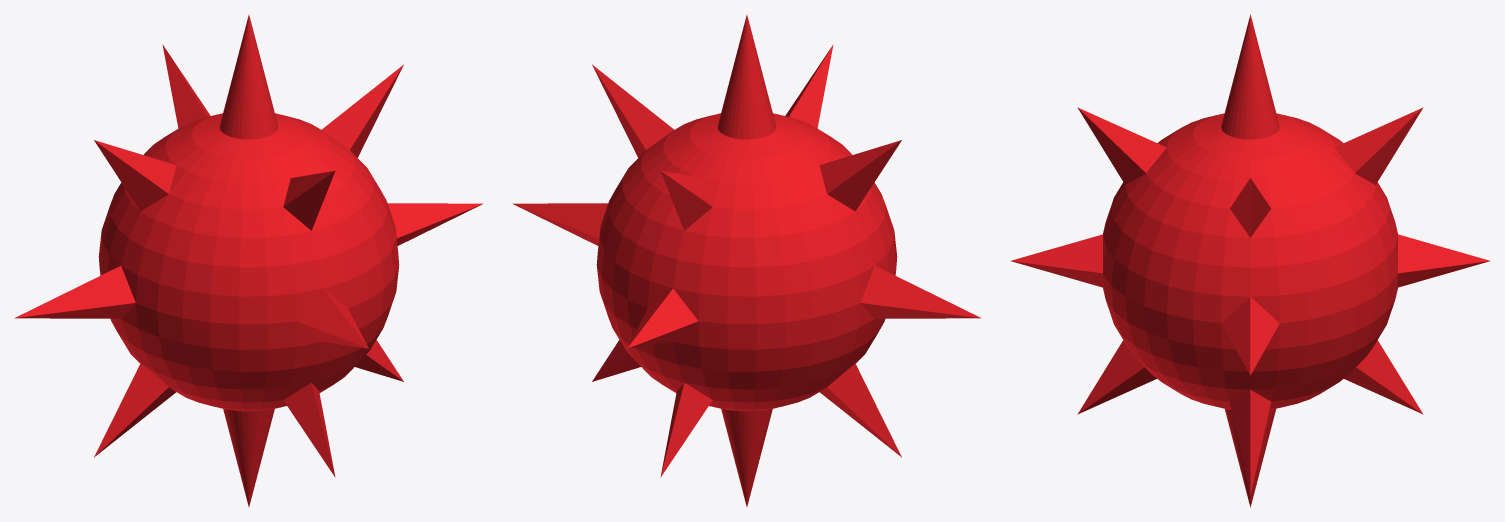
File: enemyred.fbx
3 views of the same model, side by side, from view 1: azimuth 30°, elevation 25°; view 2: azimuth 150°, elevation 25°; view 3: azimuth 270°, elevation 25° (orthographic).
Visible parts, largest first — view 1: 球; view 2: 球; view 3: 球.
Part boxes in pixels (x1,y1,x2,y2): 球: (14, 15, 483, 506); 球: (512, 15, 981, 506); 球: (1011, 14, 1489, 507).
Bounding box in the file's own units: 360 × 362 × 319.
